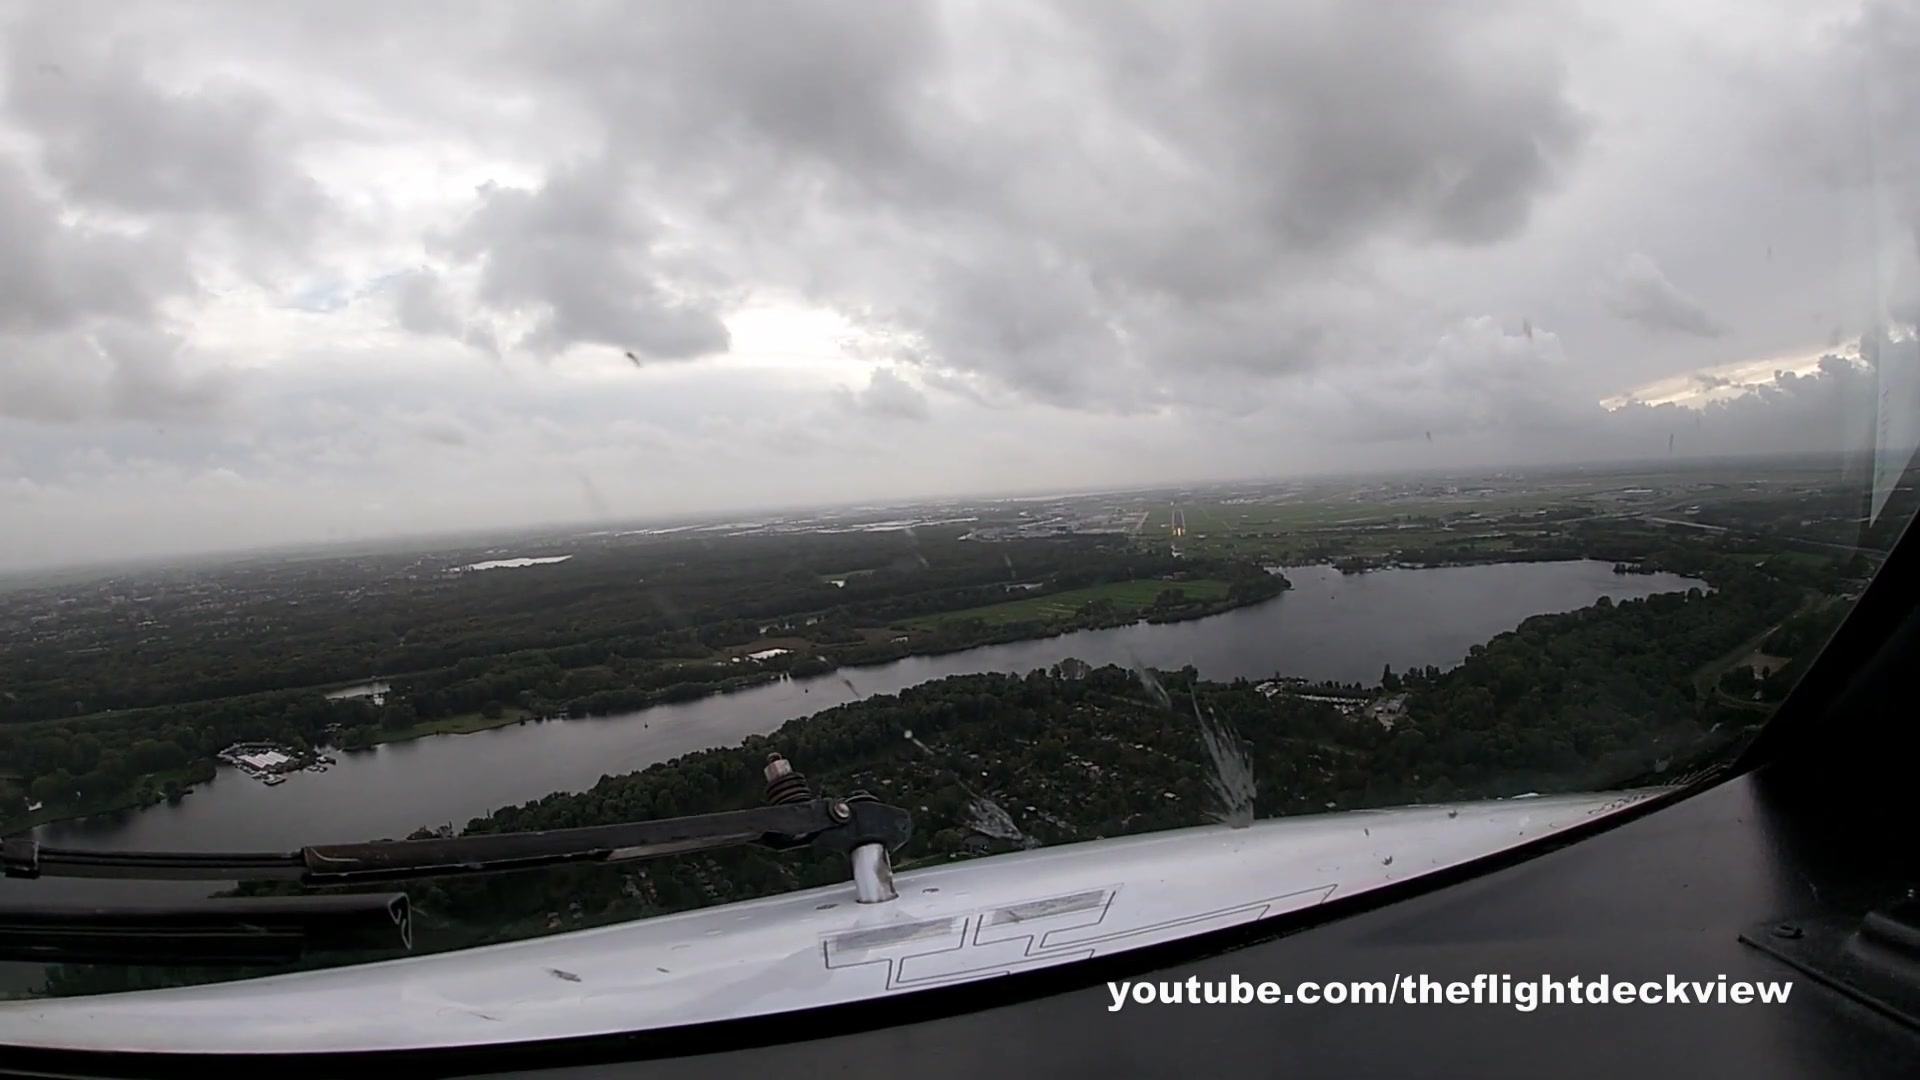runway: (1170, 508, 1185, 538)
